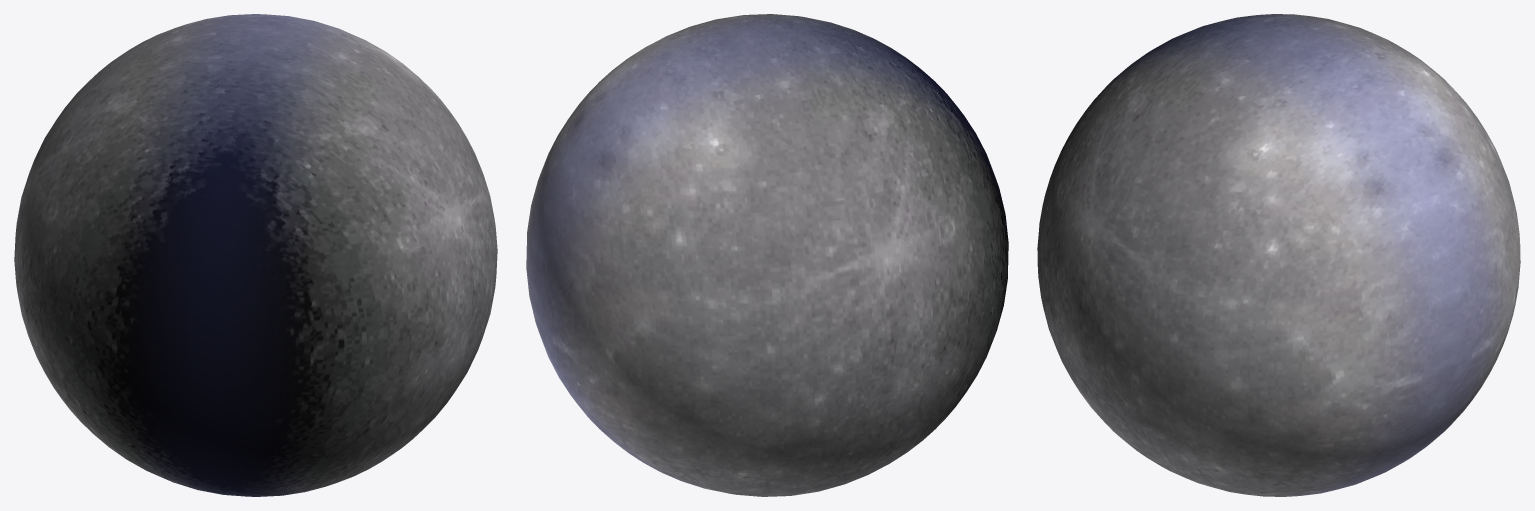
The model's file is planet-merkurius.glb.
3 views of the same model, side by side, from view 1: azimuth 30°, elevation 25°; view 2: azimuth 150°, elevation 25°; view 3: azimuth 270°, elevation 25° (orthographic).
Parts seen in each view (by area): view 1: Object_5; view 2: Object_5; view 3: Object_5.
Part boxes in pixels (box(x1,y1,x2,y2)): Object_5: box(14, 14, 497, 496); Object_5: box(526, 14, 1008, 496); Object_5: box(1037, 14, 1520, 496).
Size of the model in its own units: 0.213 by 0.2129 by 0.2129.
1 material, 1 textured.
